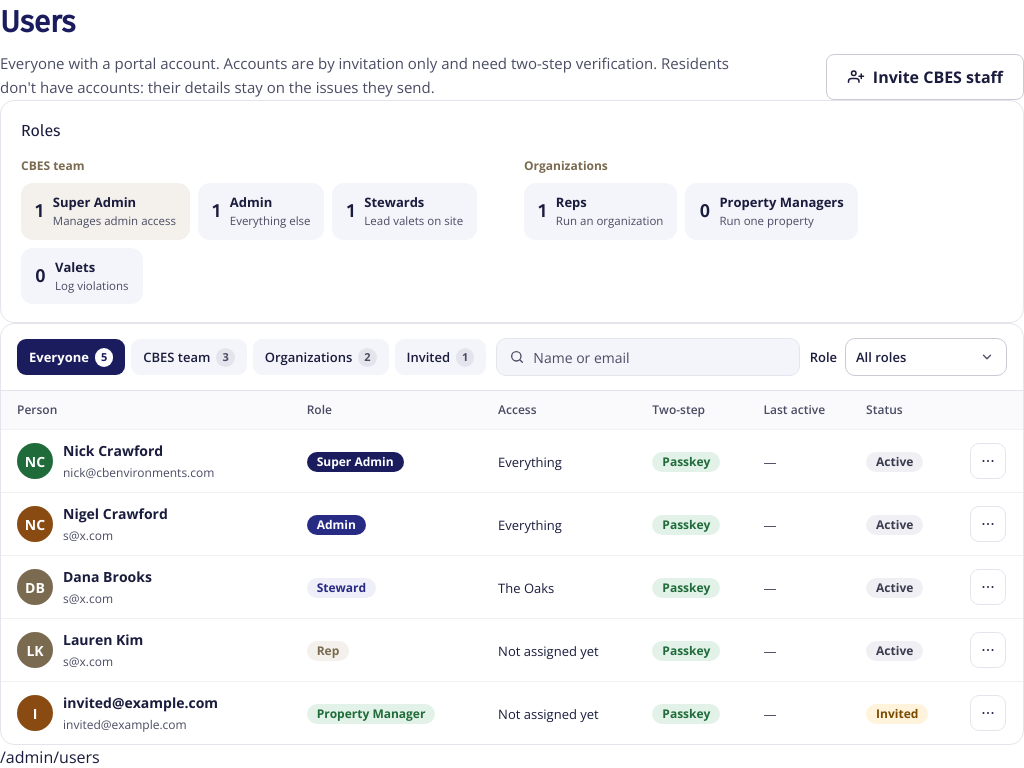
Test: Users roles › preserves selected field properties when changing Steward to Valet
Click the button named "Actions for Dana Brooks". click: (988, 587)
box: [970,569,1006,605]
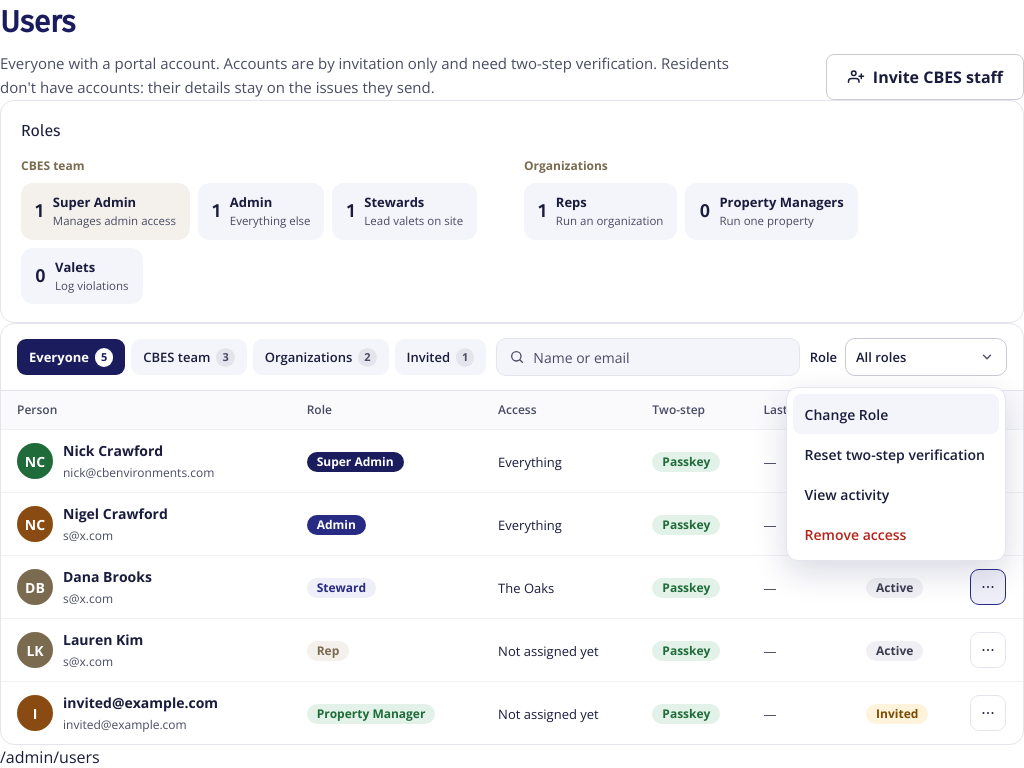
Click the menu item "Change Role". click: (896, 414)
box: [793,394,999,434]
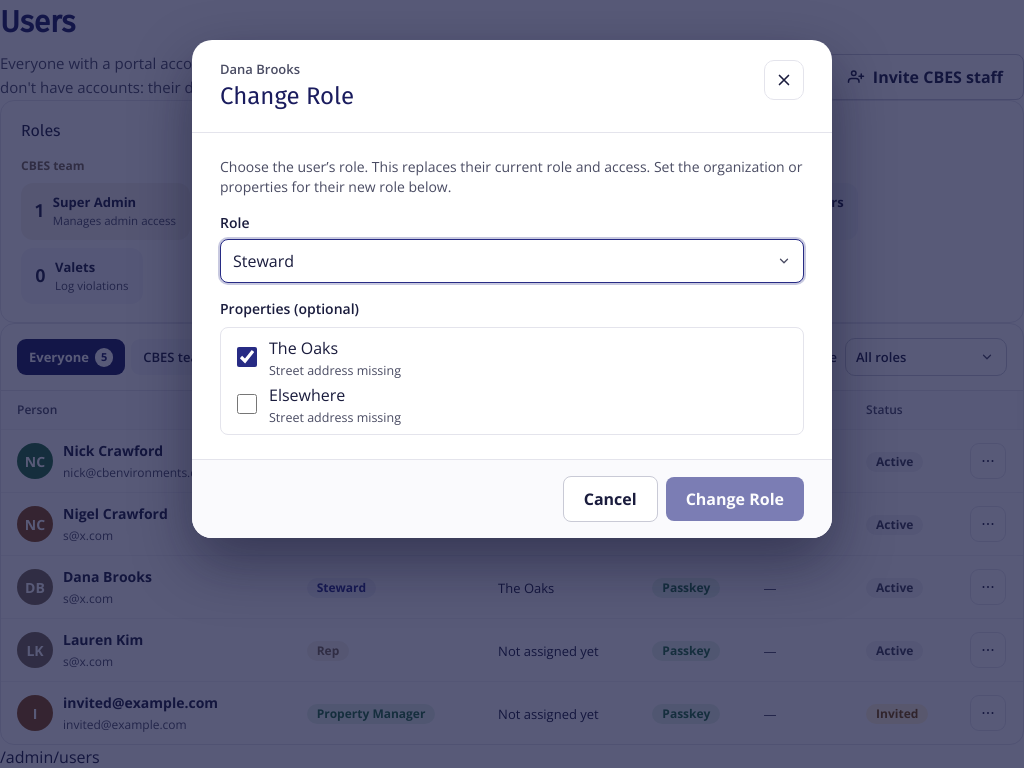
Check: the button "Change Role" is disabled, box [666,477,804,521]
Select "Valet" in the dropdown labelled "Role". click: (512, 260)
box: [220,238,804,282]
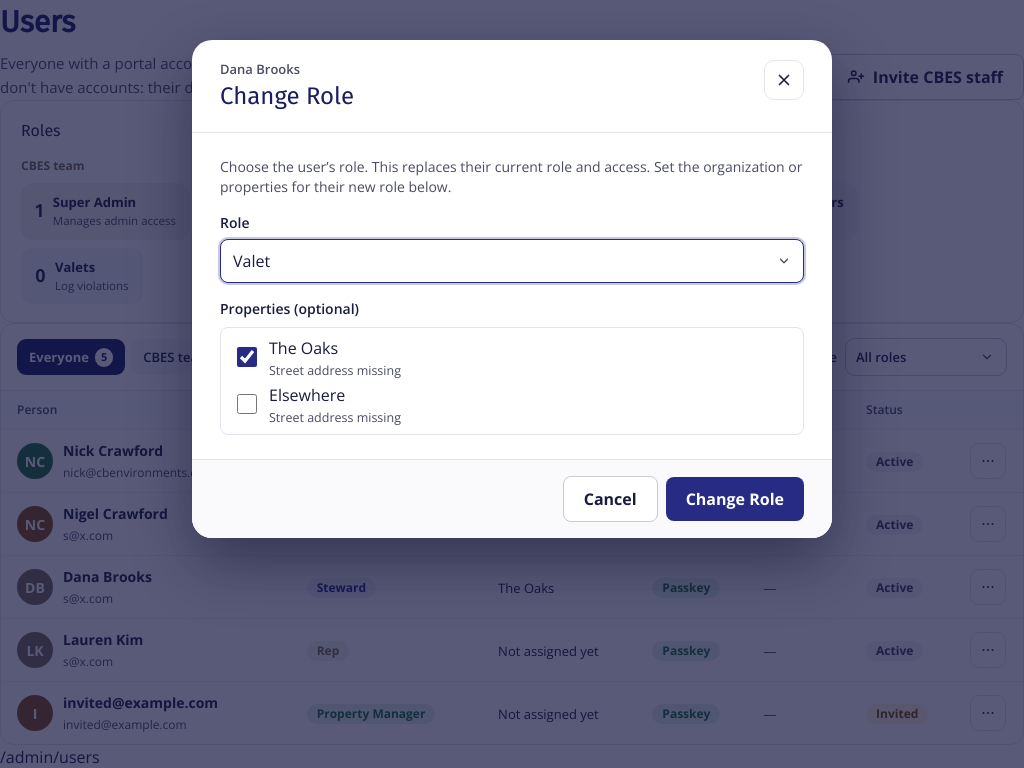
Check: the checkbox labelled "The Oaks Street address missing" is checked, box [237,347,257,367]
Click the button "Change Role". click: (735, 499)
box: [666,477,804,521]
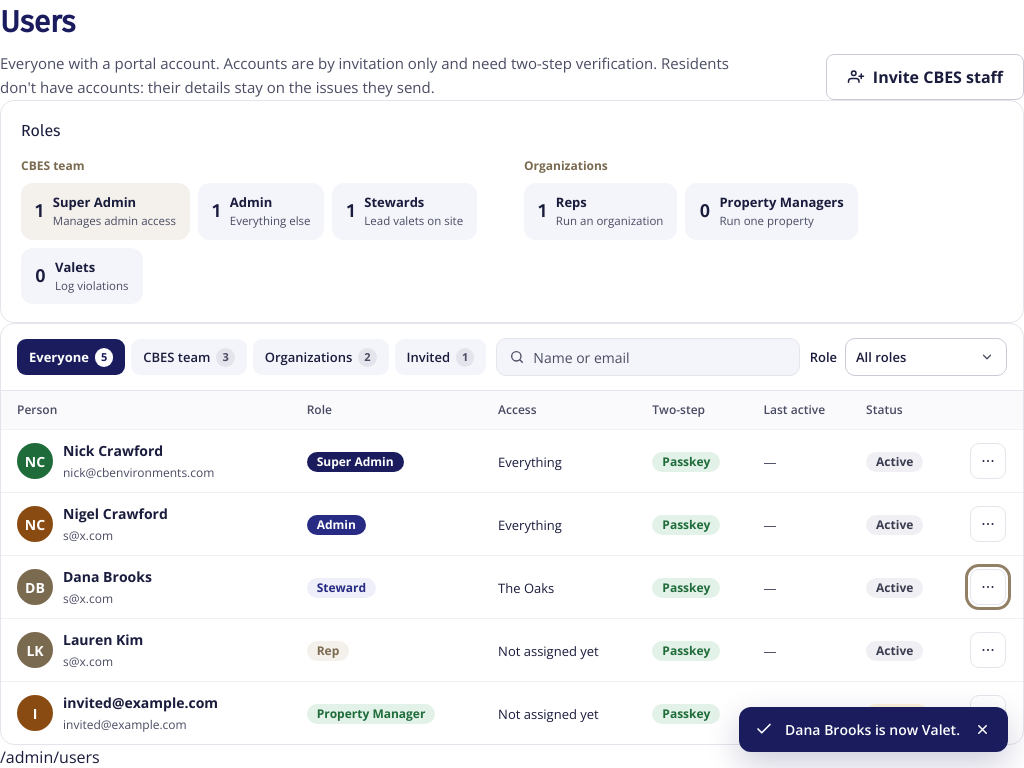
Check: the text "Dana Brooks is now Valet." is shown, box [785,719,960,740]
